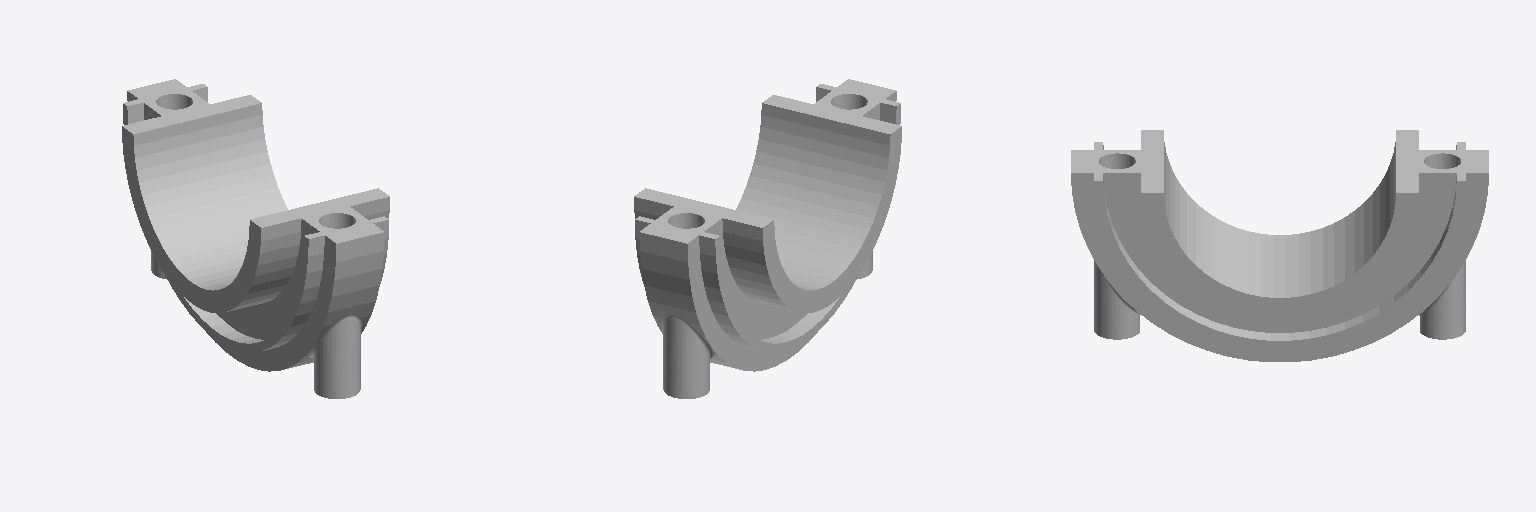
Rendered from Connecting rod - Lower.obj.
3 views of the same model, side by side, from view 1: azimuth 30°, elevation 25°; view 2: azimuth 150°, elevation 25°; view 3: azimuth 270°, elevation 25° (orthographic).
Visible parts, largest first — view 1: mesh11, mesh12, mesh3, mesh2, mesh22, mesh13, mesh19, mesh18, mesh14, mesh16, mesh17, mesh15 (+1 smaller); view 2: mesh11, mesh12, mesh1, mesh2, mesh20, mesh13, mesh18, mesh19, mesh14, mesh16, mesh17, mesh15 (+1 smaller); view 3: mesh11, mesh8, mesh4, mesh10, mesh6, mesh7, mesh18, mesh19, mesh20, mesh22.
Boxes of the visible parts, x1=… form: mesh11: x1=133, y1=103, x2=287, y2=290; mesh12: x1=122, y1=126, x2=260, y2=312; mesh3: x1=313, y1=232, x2=384, y2=345; mesh2: x1=127, y1=91, x2=335, y2=371; mesh22: x1=314, y1=317, x2=360, y2=398; mesh13: x1=227, y1=218, x2=301, y2=311; mesh19: x1=250, y1=188, x2=389, y2=243; mesh18: x1=123, y1=79, x2=261, y2=133; mesh14: x1=144, y1=103, x2=319, y2=339; mesh16: x1=123, y1=104, x2=308, y2=352; mesh17: x1=263, y1=235, x2=324, y2=350; mesh15: x1=127, y1=103, x2=263, y2=343; mesh11: x1=736, y1=103, x2=890, y2=290; mesh12: x1=763, y1=126, x2=901, y2=312; mesh1: x1=639, y1=232, x2=710, y2=345; mesh2: x1=688, y1=91, x2=896, y2=371; mesh20: x1=663, y1=317, x2=709, y2=398; mesh13: x1=722, y1=218, x2=796, y2=311; mesh18: x1=634, y1=188, x2=773, y2=243; mesh19: x1=762, y1=79, x2=900, y2=133; mesh14: x1=704, y1=103, x2=879, y2=339; mesh16: x1=715, y1=104, x2=900, y2=352; mesh17: x1=699, y1=235, x2=760, y2=350; mesh15: x1=760, y1=103, x2=896, y2=343; mesh11: x1=1164, y1=142, x2=1395, y2=297; mesh8: x1=1103, y1=173, x2=1456, y2=332; mesh4: x1=1071, y1=173, x2=1488, y2=361; mesh10: x1=1141, y1=193, x2=1418, y2=318; mesh6: x1=1094, y1=181, x2=1465, y2=348; mesh7: x1=1103, y1=176, x2=1456, y2=340; mesh18: x1=1396, y1=130, x2=1488, y2=192; mesh19: x1=1071, y1=130, x2=1163, y2=192; mesh20: x1=1419, y1=260, x2=1465, y2=339; mesh22: x1=1094, y1=260, x2=1140, y2=339.
Bounding box in the file's own units: 0.032 × 0.0449 × 0.09.